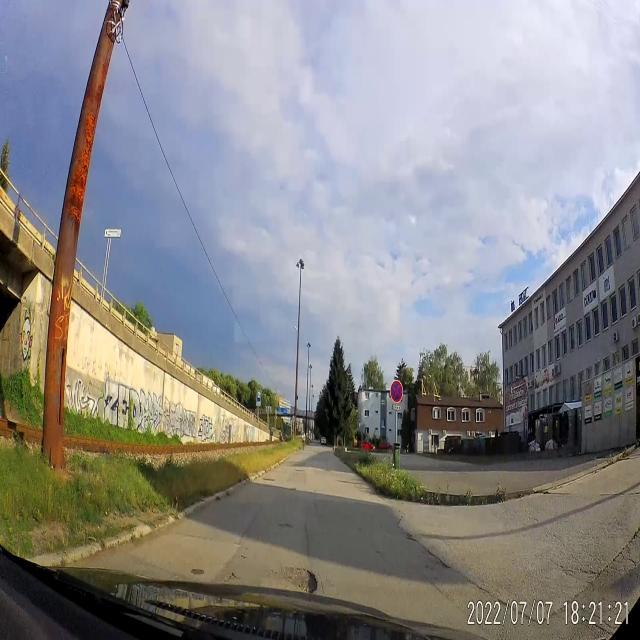Pothole: (278, 563, 320, 593), (188, 564, 206, 578), (258, 476, 277, 486), (275, 519, 292, 529)
